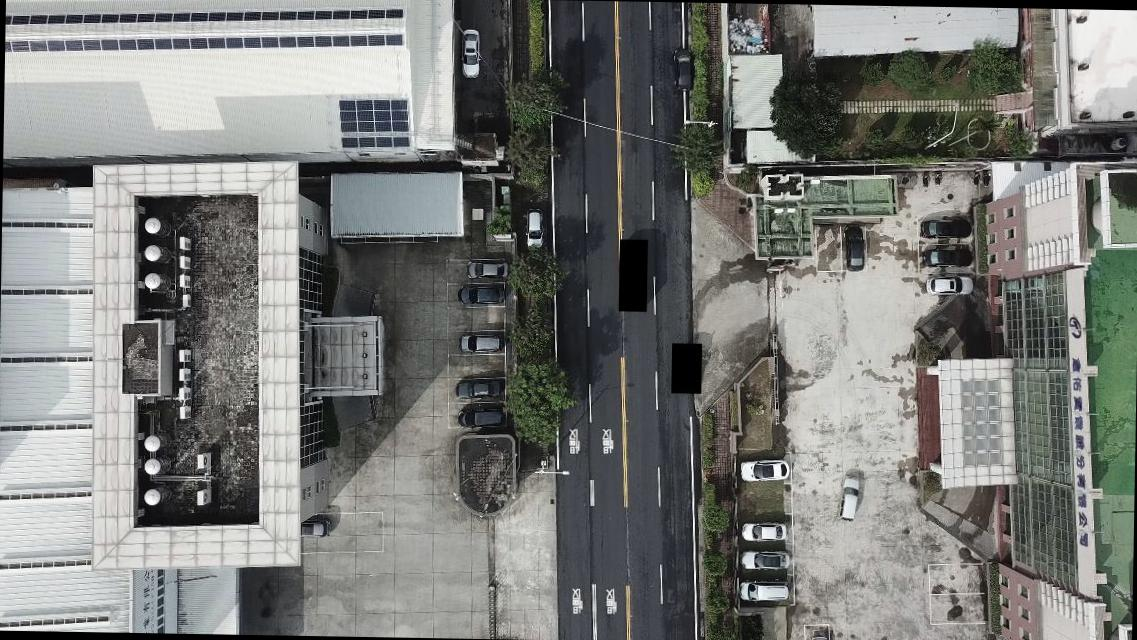vehicle: (841, 223, 867, 271), (742, 457, 788, 483), (739, 548, 790, 571), (671, 47, 698, 89), (738, 582, 788, 604), (918, 217, 970, 238), (836, 473, 859, 520), (925, 275, 972, 297), (456, 407, 505, 428), (460, 26, 480, 77), (920, 247, 971, 267), (460, 330, 506, 352), (456, 378, 502, 400), (463, 256, 508, 278), (458, 284, 504, 305), (522, 206, 545, 248), (742, 520, 786, 541), (300, 516, 332, 537)
